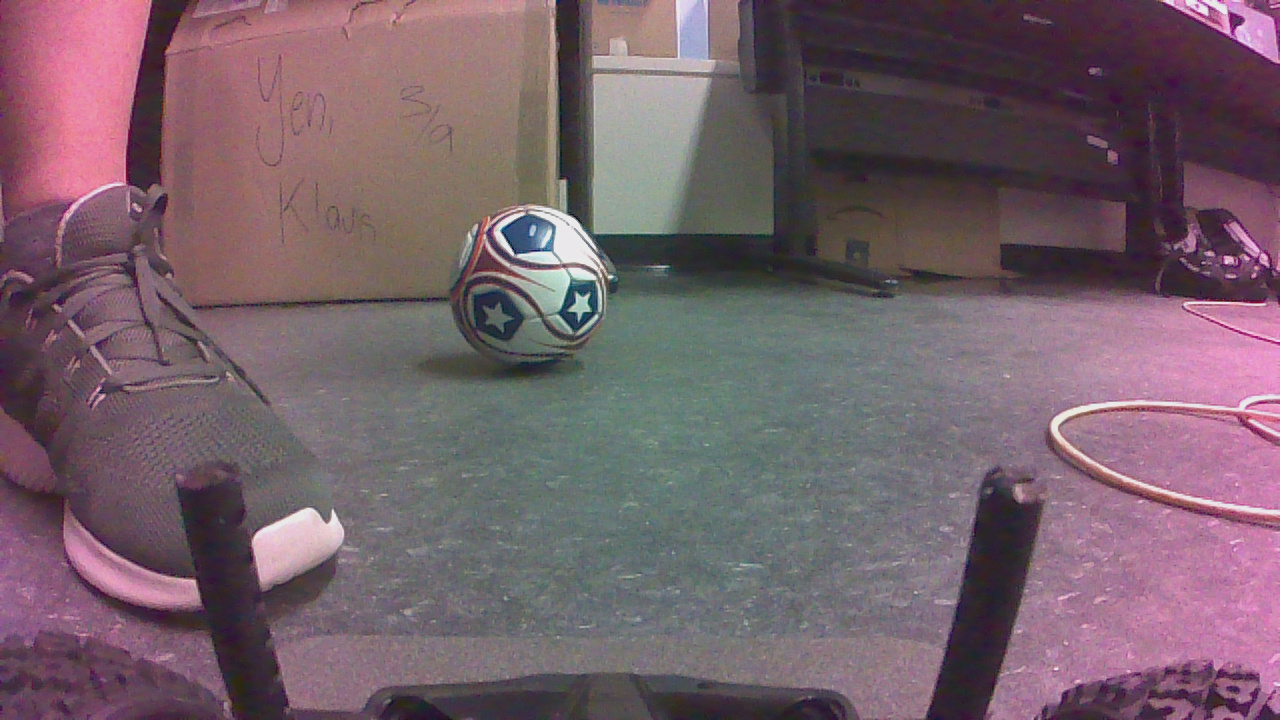ball: (430, 206, 618, 374)
